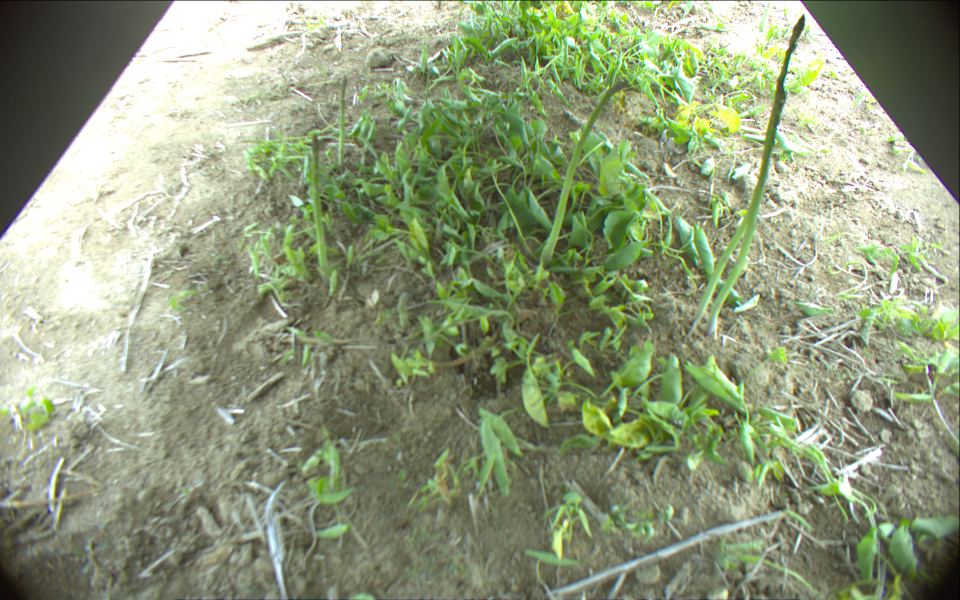aspa: (707, 13, 805, 333), (686, 88, 792, 334), (541, 80, 628, 271), (307, 132, 328, 280), (338, 74, 349, 168)
